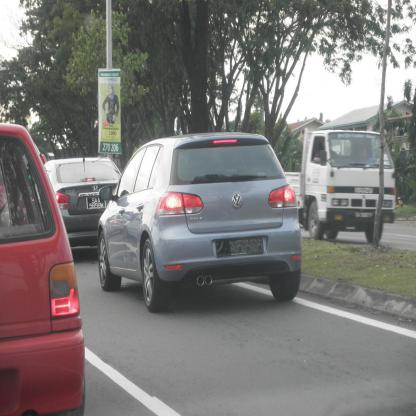Car: (96, 134, 303, 311), (0, 123, 85, 415), (44, 157, 121, 247)
Truck: (284, 128, 396, 243)
